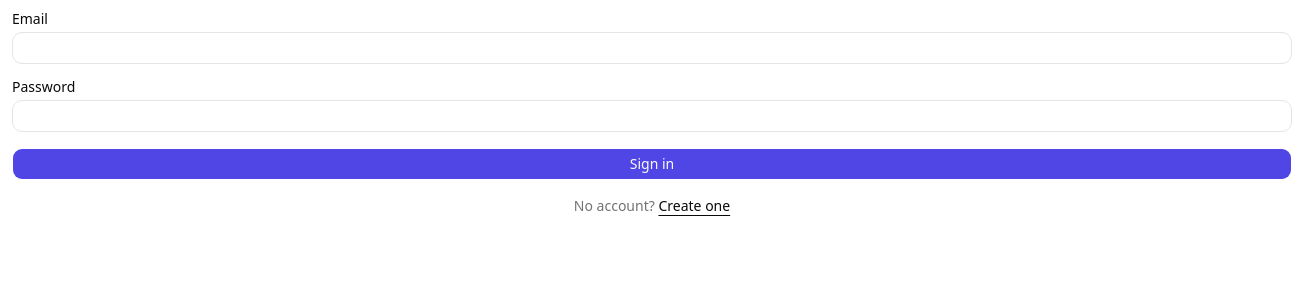
LoginForm › shows the generic message on 401 and clears the password
Type "a@example.com" into the field labelled "Email".
click(652, 48); type("a@example.com")  # box [12,32,1292,64]
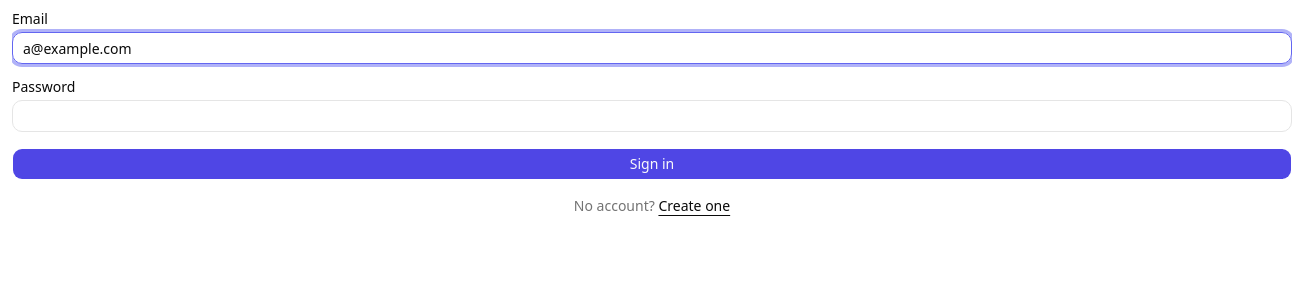
Type "wrong-password" into the password field labelled "Password".
click(652, 116); type("wrong-password")  # box [12,100,1292,132]
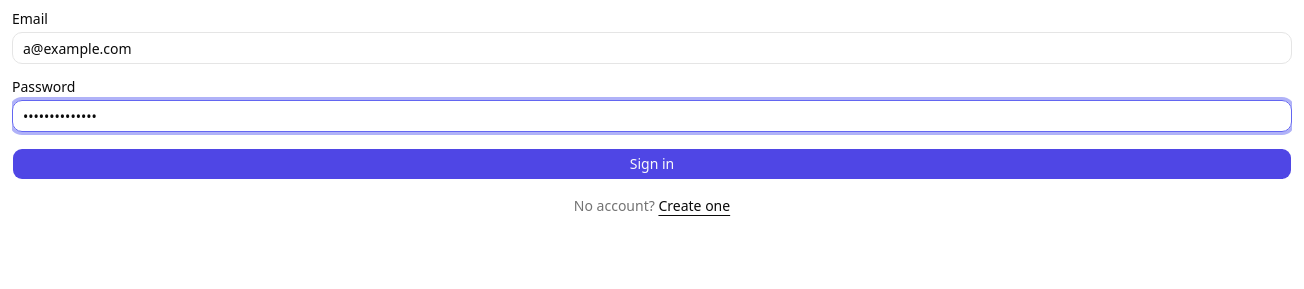
Click the button "Sign in".
click(652, 164)  # box [12,148,1292,180]
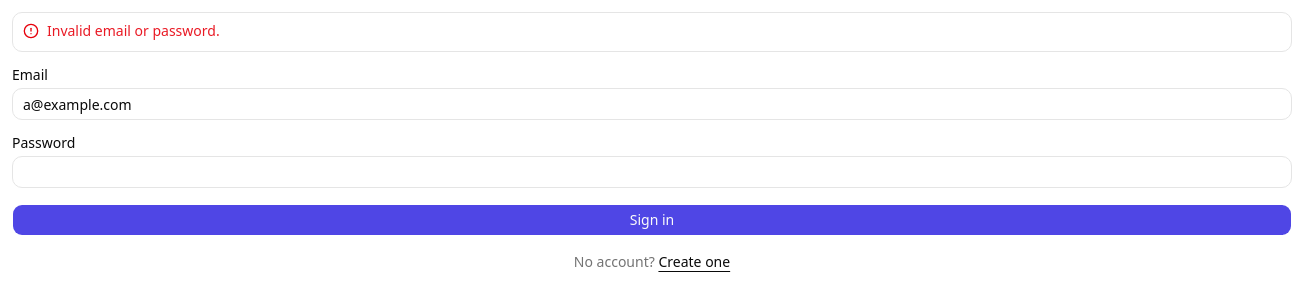
Check: the text "Invalid email or password." is shown, box [47,21,220,40]
Check: the password field labelled "Password" is empty, box [12,156,1292,188]
